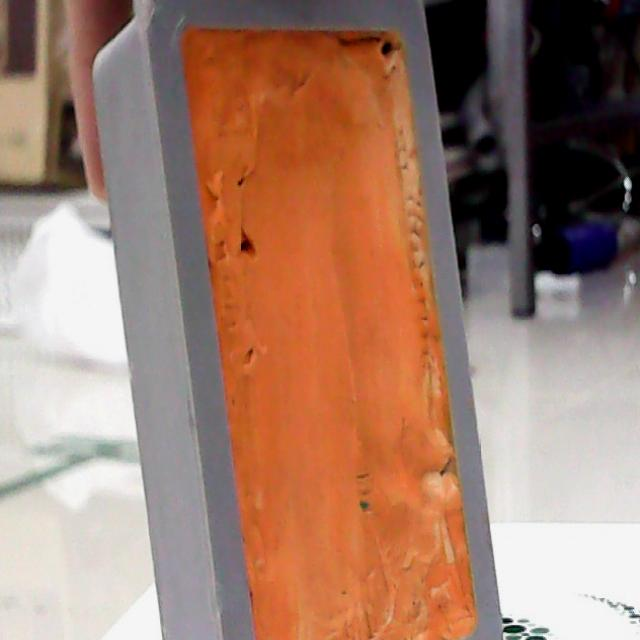block: (78, 2, 515, 640)
